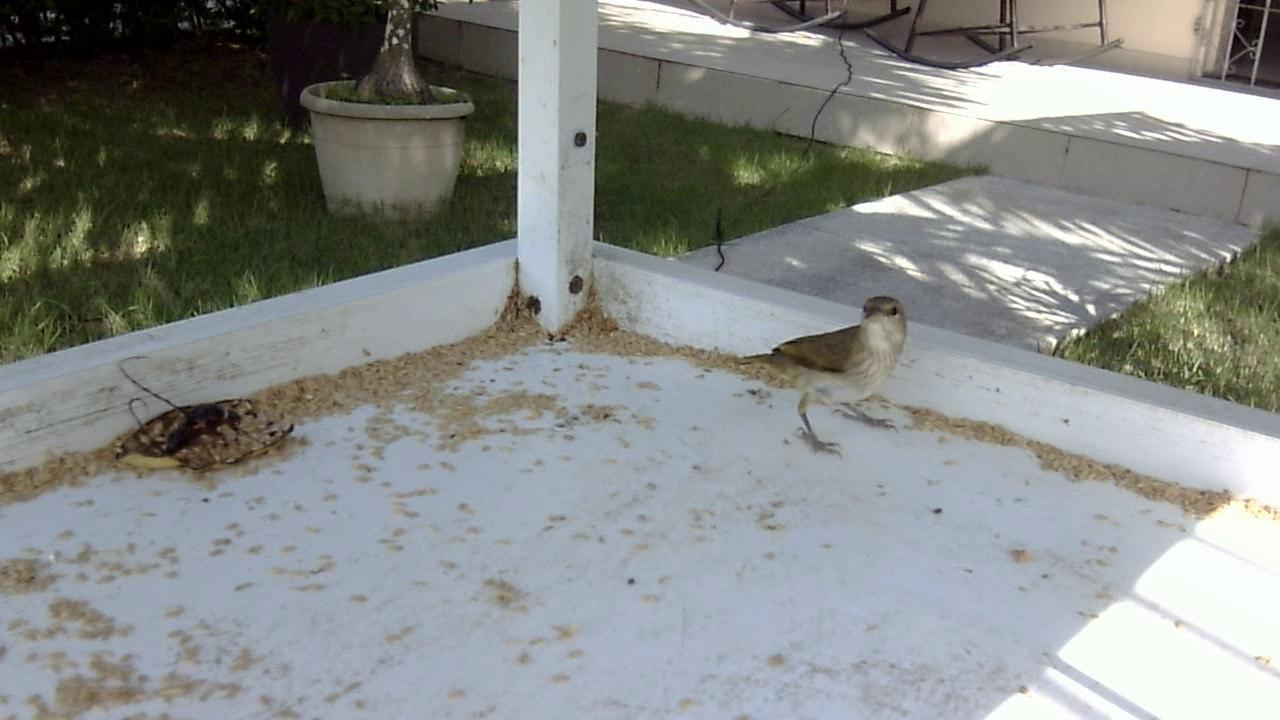canario_do_amazonas: (728, 285, 915, 461)
